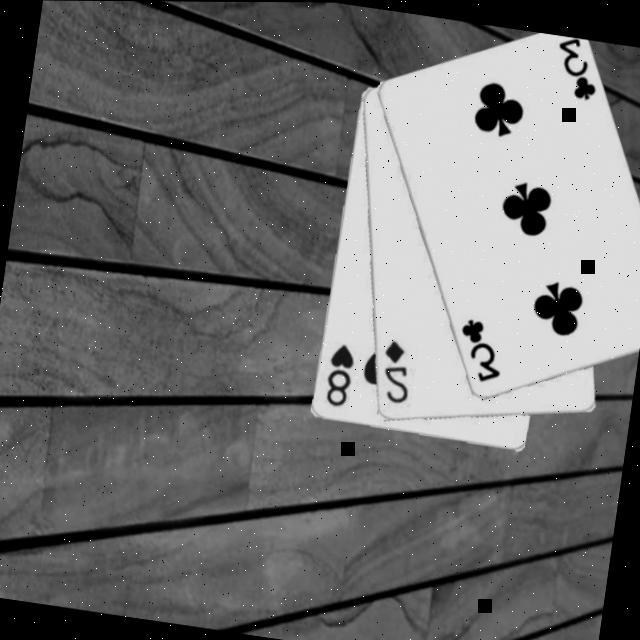2D: (372, 336, 415, 408)
3C: (448, 315, 508, 389), (546, 34, 604, 106)
8H: (316, 339, 356, 412)
